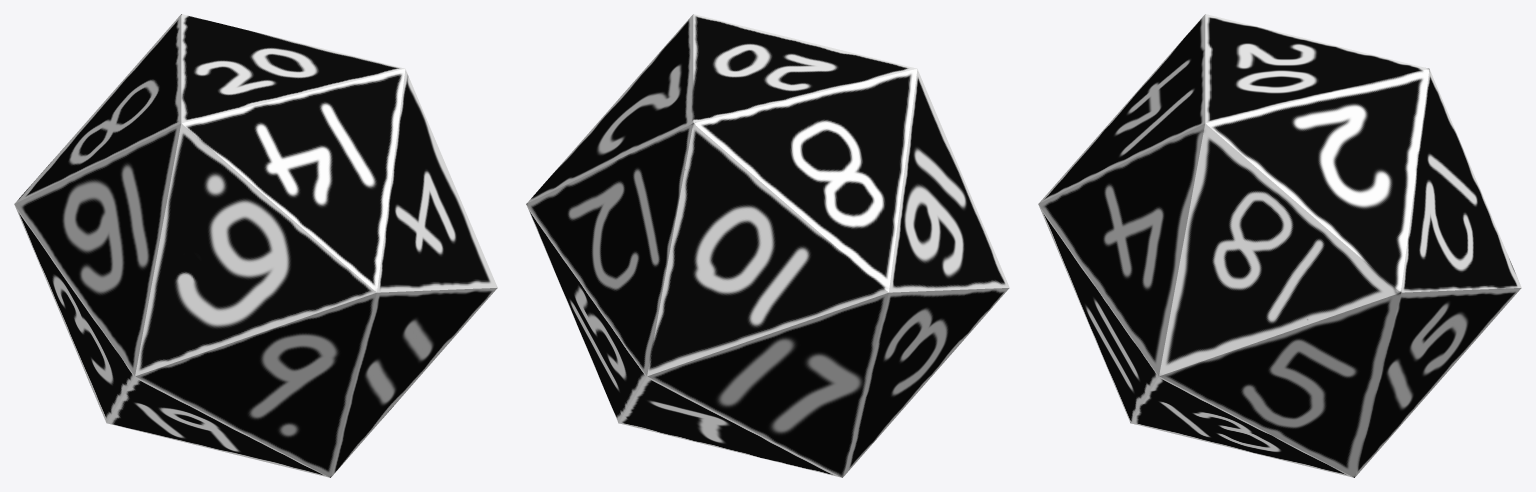
3 renders of one model, left to right at view 1: azimuth 30°, elevation 25°; view 2: azimuth 150°, elevation 25°; view 3: azimuth 270°, elevation 25°, orthographic.
Parts seen in each view (by area): view 1: d20-rigid; view 2: d20-rigid; view 3: d20-rigid.
Part boxes in pixels (bbox=[...]): d20-rigid: bbox=[14, 14, 497, 477]; d20-rigid: bbox=[526, 14, 1009, 477]; d20-rigid: bbox=[1038, 14, 1521, 477].
Size of the model in its own units: 1.7 by 1.59 by 1.96.
Materials: 1 (1 with a texture image).
